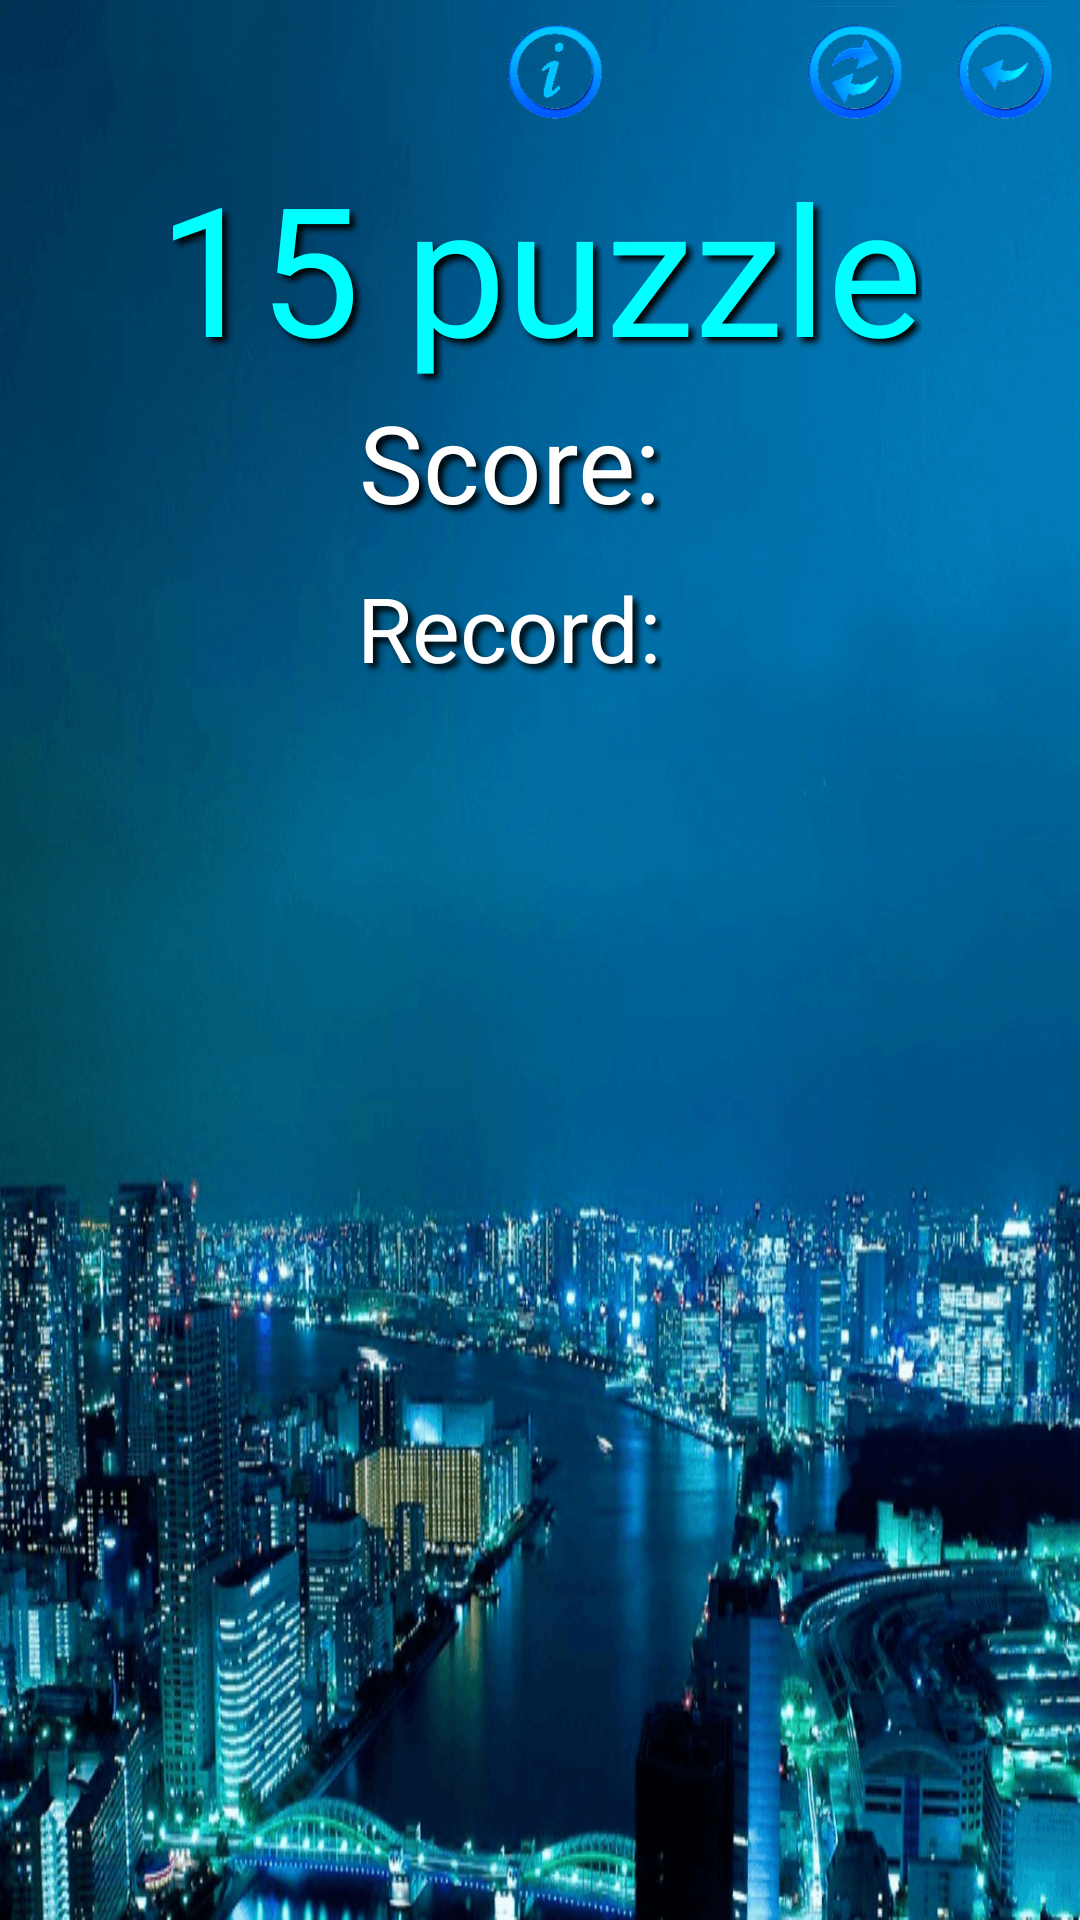

Named icons in this screenshot (1080 × 1920) and their centers, point (x, y):
about: point (555, 71)
back: point (1005, 63)
restart: point (855, 63)
